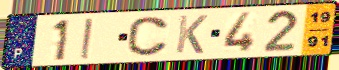1: (51, 18, 72, 62)
2: (262, 8, 303, 54)
4: (221, 11, 257, 54)
C: (125, 15, 171, 57)
I: (78, 17, 94, 61)
K: (174, 14, 210, 56)
